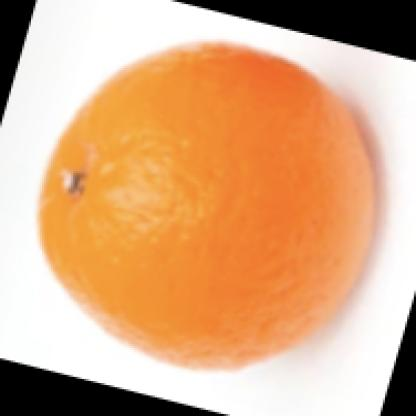fresh: (39, 44, 379, 376)
